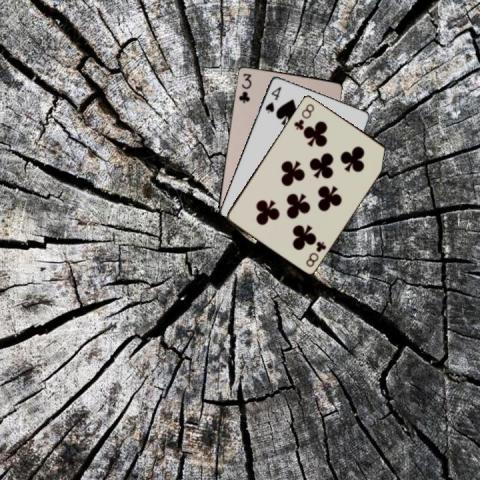3c: (235, 70, 253, 104)
4s: (262, 83, 283, 115)
8c: (291, 100, 316, 131), (303, 238, 327, 268)
